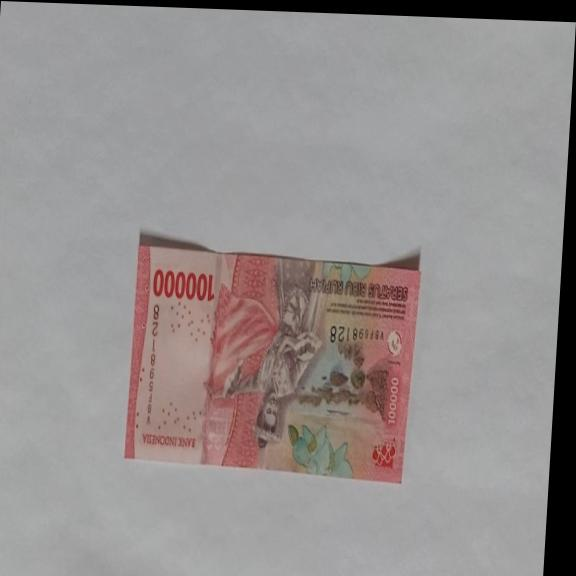Kertas: (122, 239, 422, 483), (150, 267, 216, 304)
